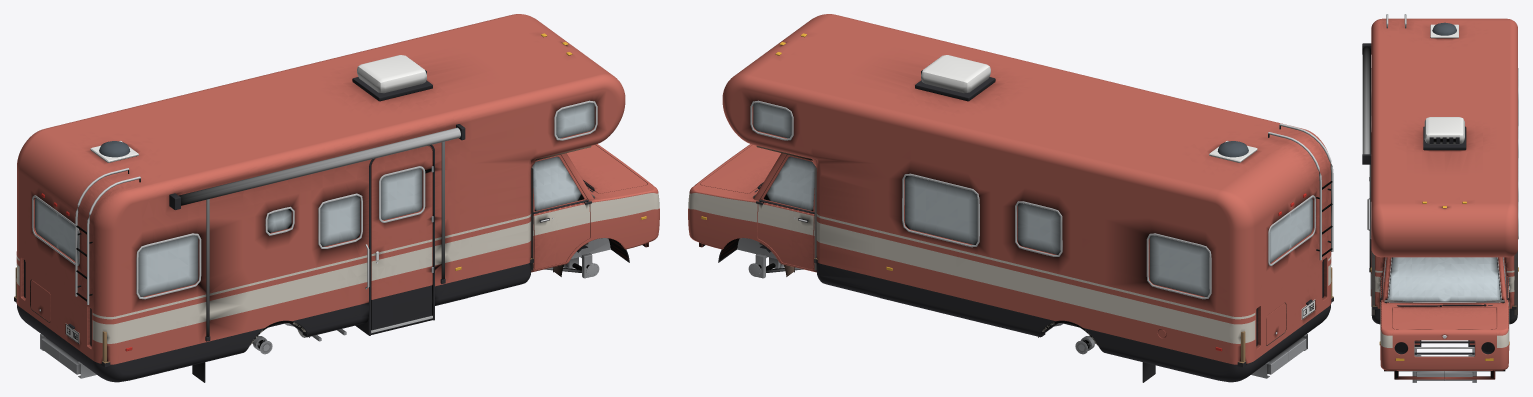
The picture shows the model from 3 angles, left to right: view 1: azimuth 30°, elevation 25°; view 2: azimuth 150°, elevation 25°; view 3: azimuth 270°, elevation 25°; orthographic projection. The views are drawn at different scales.
Parts seen in each view (by area): view 1: BODY, P_door_side, GLASS, P_door_FR, P_hood, PG_door_FR, PG_door_side, UNDER, INTERIOR, P_trunk; view 2: BODY, GLASS, P_door_FL, P_hood, PG_door_FL, UNDER, INTERIOR, P_trunk; view 3: BODY, GLASS, P_hood, UNDER, INTERIOR.
Part boxes in pixels (<box>): BODY: <box>16,14,659,382</box>; P_door_side: <box>371,145,433,330</box>; GLASS: <box>35,103,594,296</box>; P_door_FR: <box>531,155,589,269</box>; P_hood: <box>567,145,647,193</box>; PG_door_FR: <box>532,156,583,211</box>; PG_door_side: <box>381,168,422,219</box>; UNDER: <box>40,238,629,378</box>; INTERIOR: <box>14,146,594,367</box>; P_trunk: <box>31,280,50,322</box>; BODY: <box>688,14,1333,382</box>; GLASS: <box>753,103,1312,296</box>; P_door_FL: <box>758,155,816,269</box>; P_hood: <box>700,145,780,193</box>; PG_door_FL: <box>764,156,815,211</box>; UNDER: <box>718,238,1307,378</box>; INTERIOR: <box>753,146,1333,367</box>; P_trunk: <box>1266,303,1285,344</box>; BODY: <box>1362,14,1518,379</box>; GLASS: <box>1388,257,1500,301</box>; P_hood: <box>1392,307,1496,329</box>; UNDER: <box>1412,340,1476,382</box>; INTERIOR: <box>1371,250,1517,345</box>.
Bounding box in the file's own units: 8.04 × 3.1 × 2.4.
